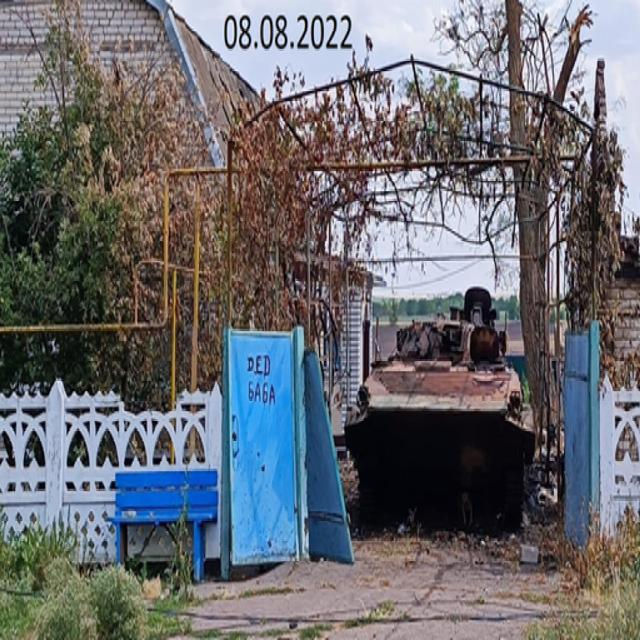APC-IFV: (338, 286, 534, 536)
